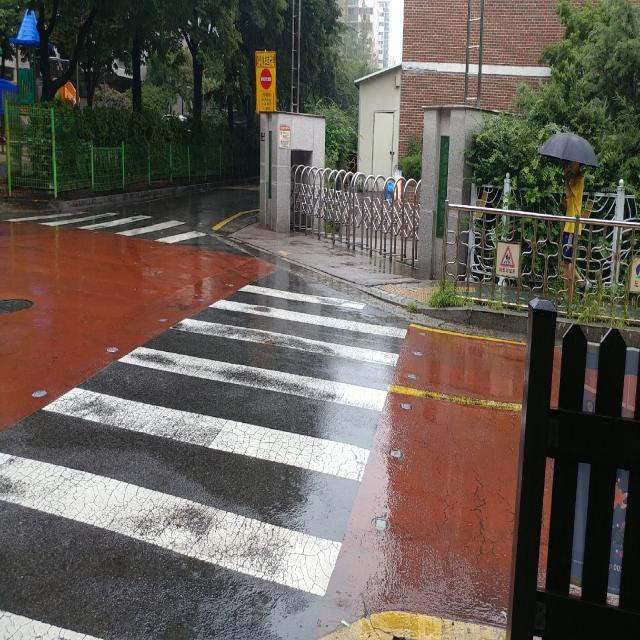횡단보도: (0, 279, 412, 640), (6, 188, 213, 254)
